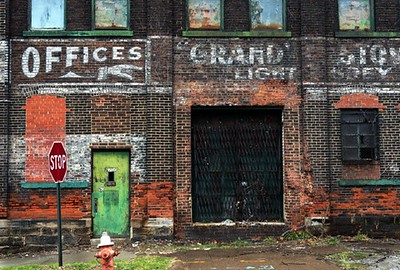StopSign: (48, 141, 67, 181)
